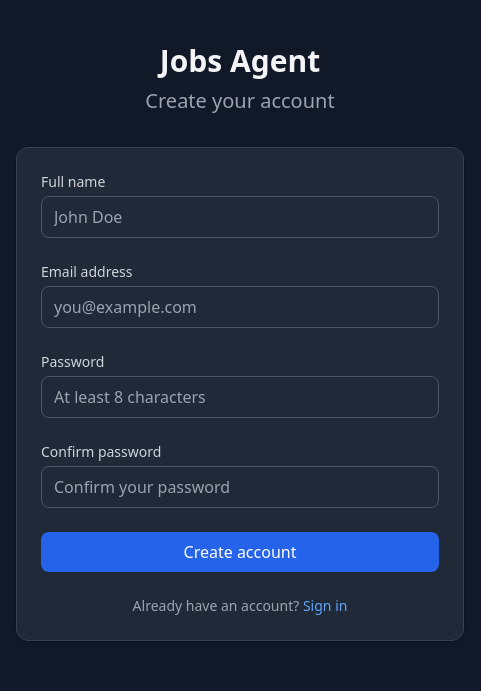
Test: RegisterPage › validates password match
Type "Test User" into the field labelled "Full name" at {"x": 240, "y": 217}, box 41,196 -> 439,238
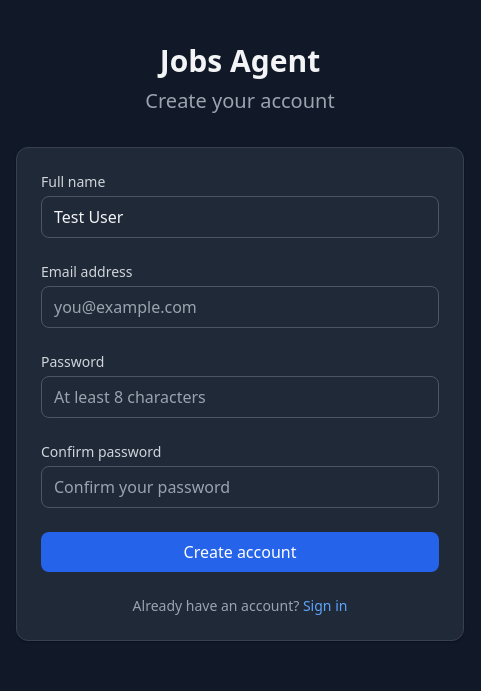
Type "test@example.com" into the field labelled "Email address" at {"x": 240, "y": 307}, box 41,286 -> 439,328
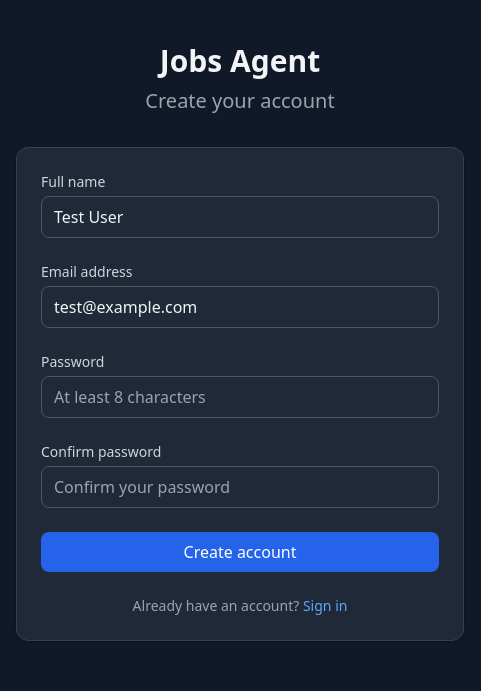
Type "password123" into the password field labelled "Password" at {"x": 240, "y": 397}, box 41,376 -> 439,418
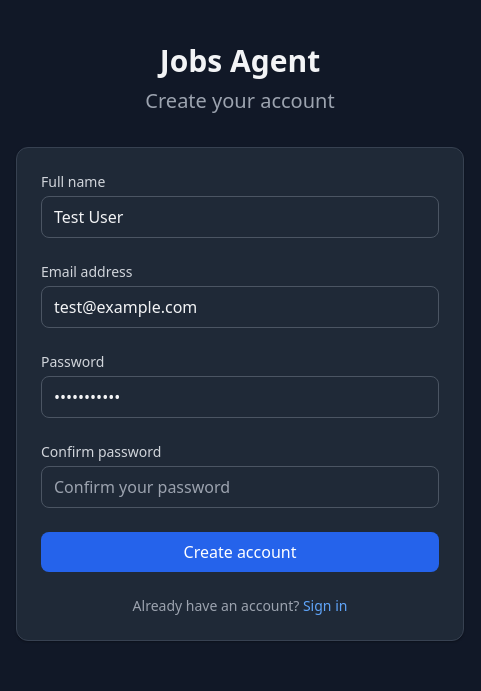
Type "different" into the password field labelled "Confirm password" at {"x": 240, "y": 487}, box 41,466 -> 439,508
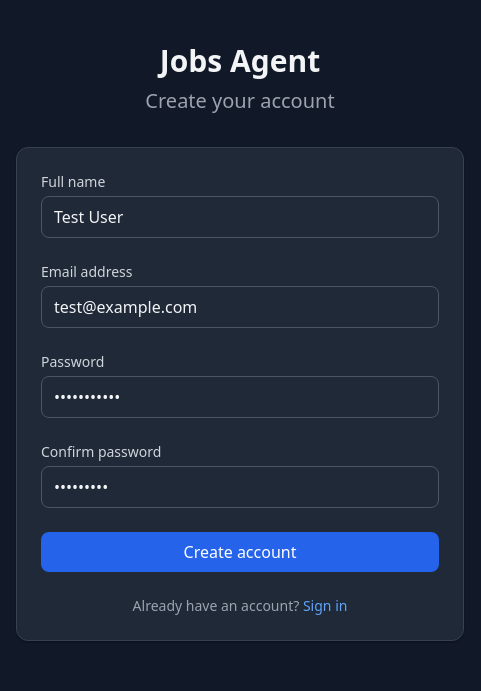
Click the button "Create account" at {"x": 240, "y": 552}, box 41,532 -> 439,572
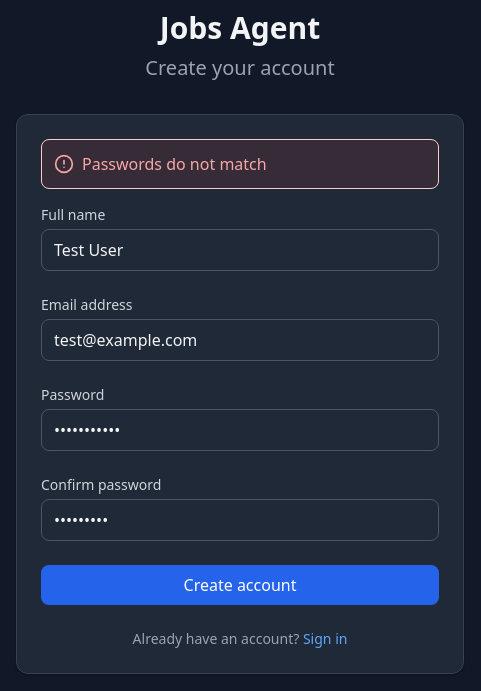
expect the text "Passwords do not match" is shown: met, box 82,152 -> 267,176
